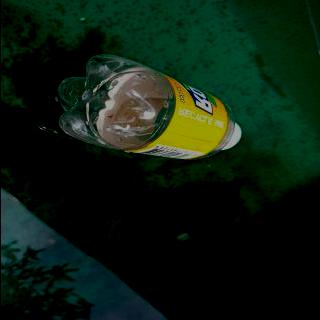bottle: (54, 52, 245, 164)
